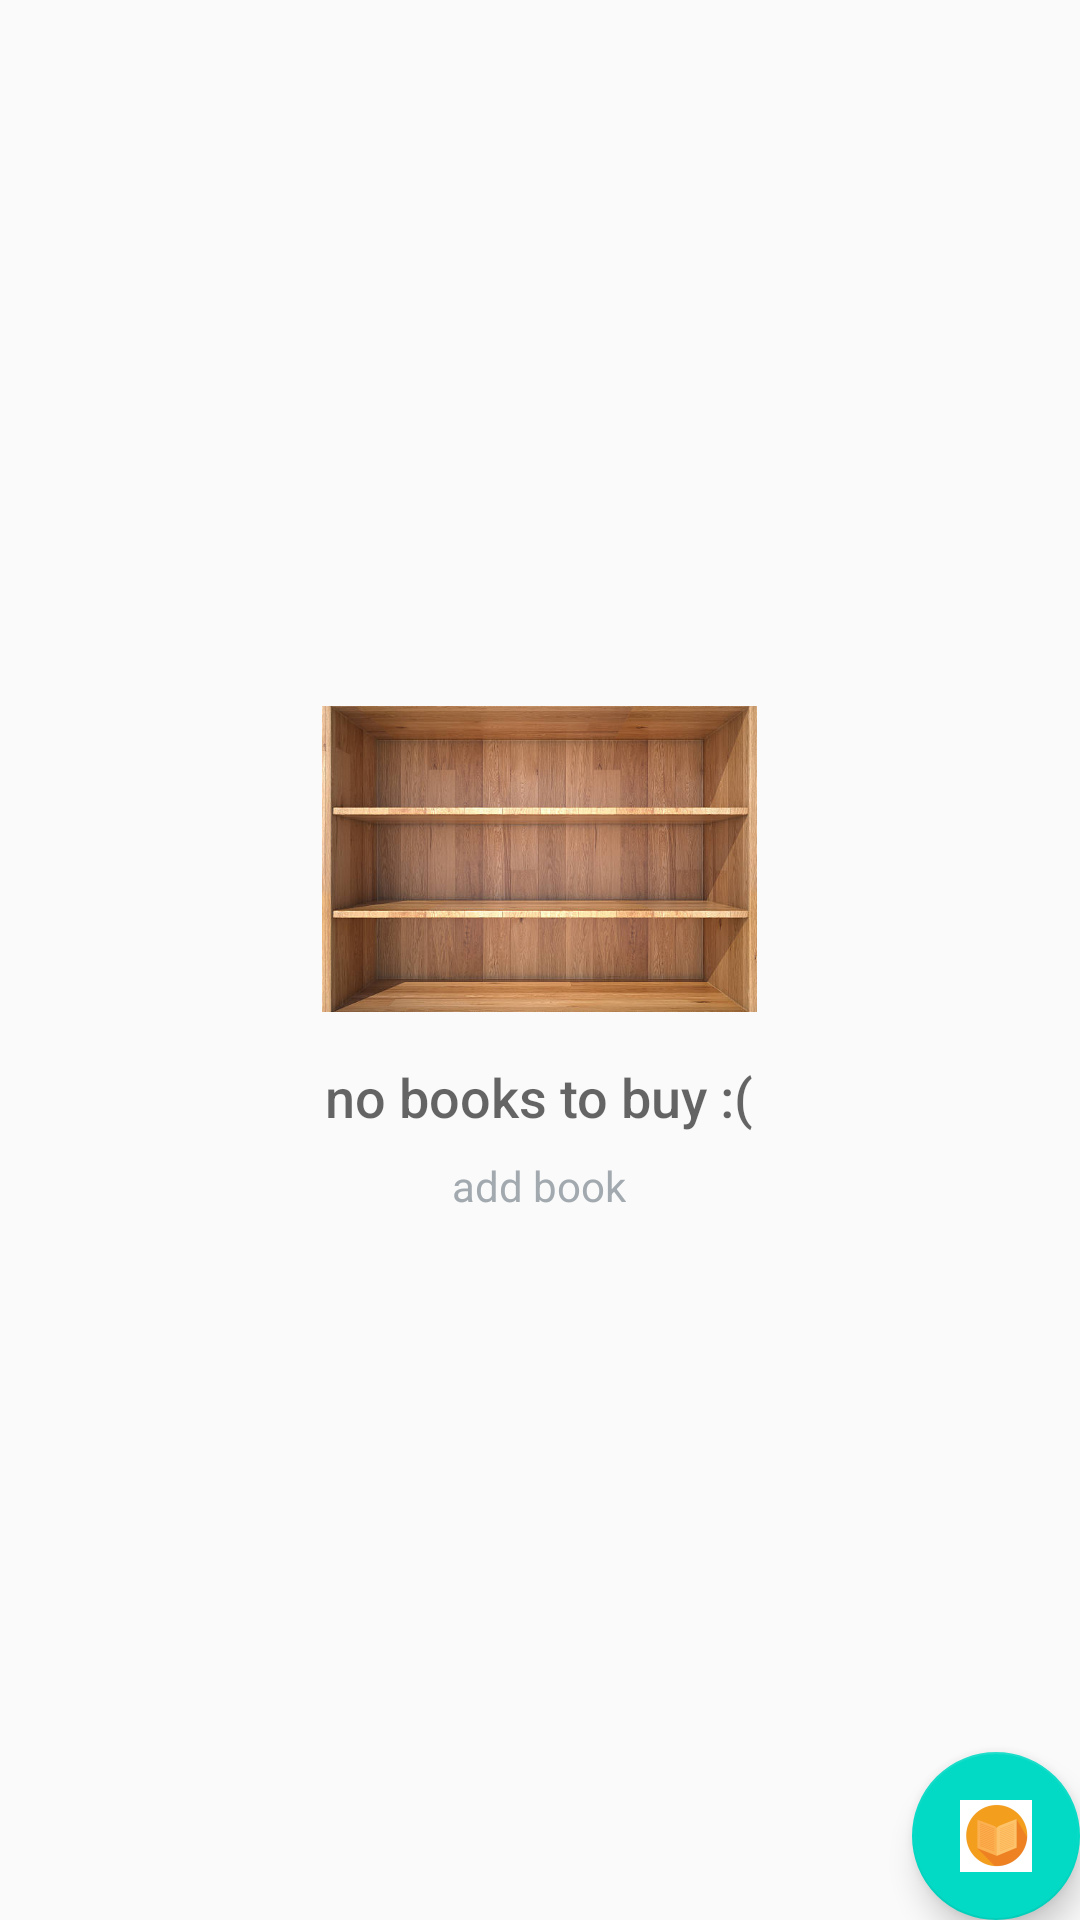

Screen size 1080w x 1920h. Icon name, then its box in pixels as (left=x1, top=y1, right=x2, bottom=y2):
book pick: (left=912, top=1752, right=1080, bottom=1920)
